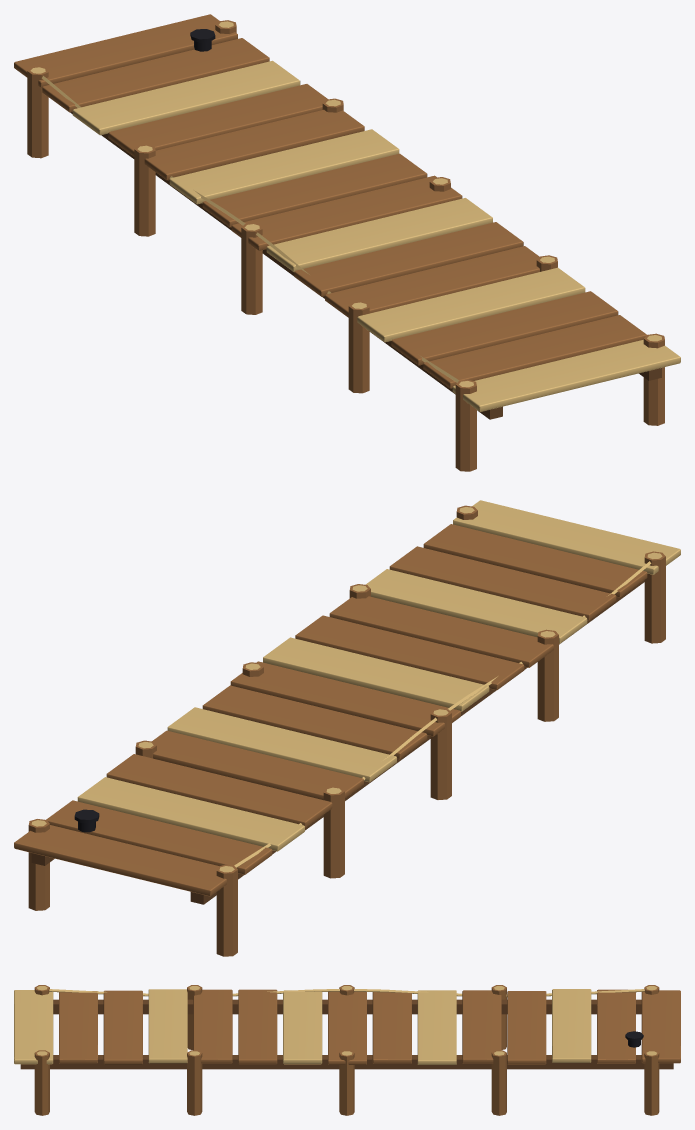
Rendered from Muelle.fbx.
3 views of the same model, one above another, from view 1: azimuth 30°, elevation 25°; view 2: azimuth 150°, elevation 25°; view 3: azimuth 270°, elevation 25° (orthographic). The views are drawn at different scales.
Visible parts, largest first — view 1: Muelle; view 2: Muelle; view 3: Muelle.
Part boxes in pixels (x1,y1,x2,y2): Muelle: (14, 14, 680, 471); Muelle: (14, 500, 680, 956); Muelle: (14, 985, 680, 1115).
Size of the model in its own units: 7.79 by 3.3 by 30.64.
1 material, 1 textured.
